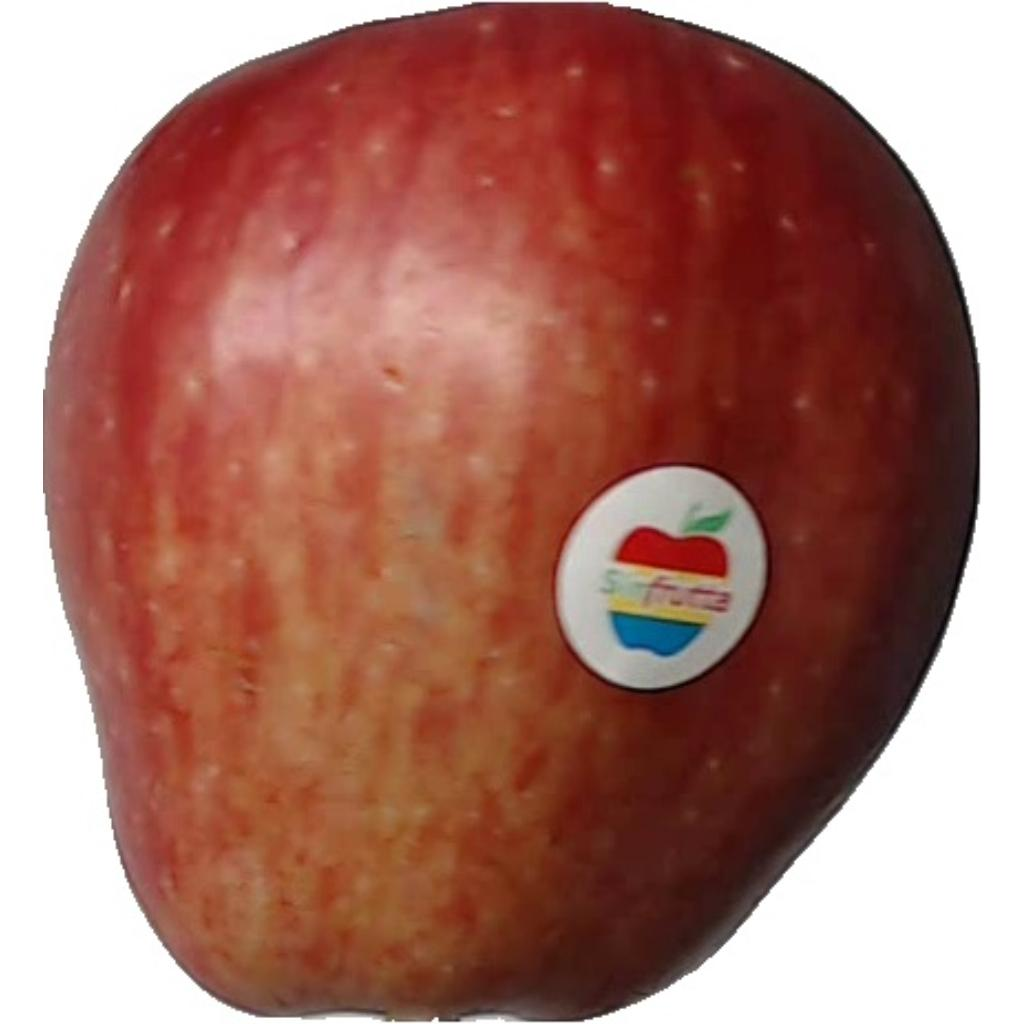apple: (42, 4, 980, 1024)
